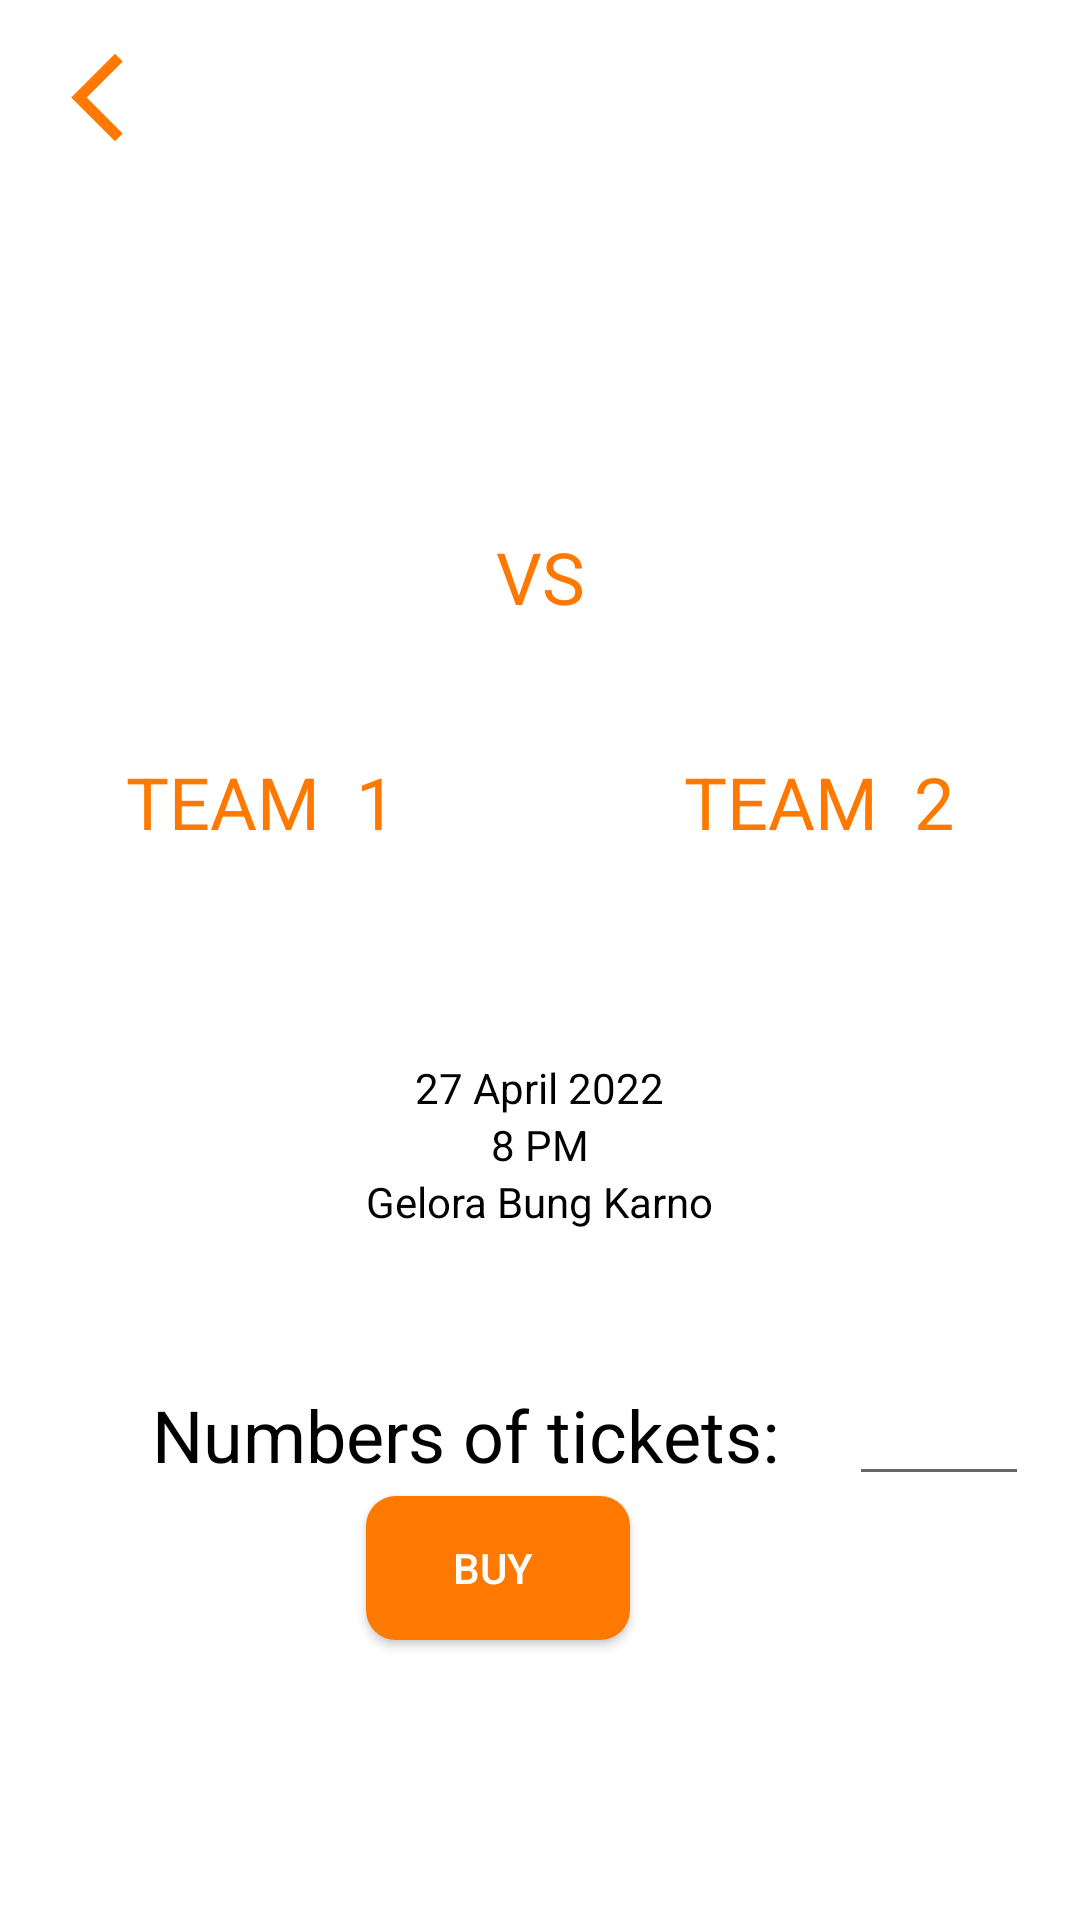

Where icons sit on this 1080 × 1920 app screen, as Rect(x1, y1, x2, y2):
back: Rect(71, 54, 123, 141)
